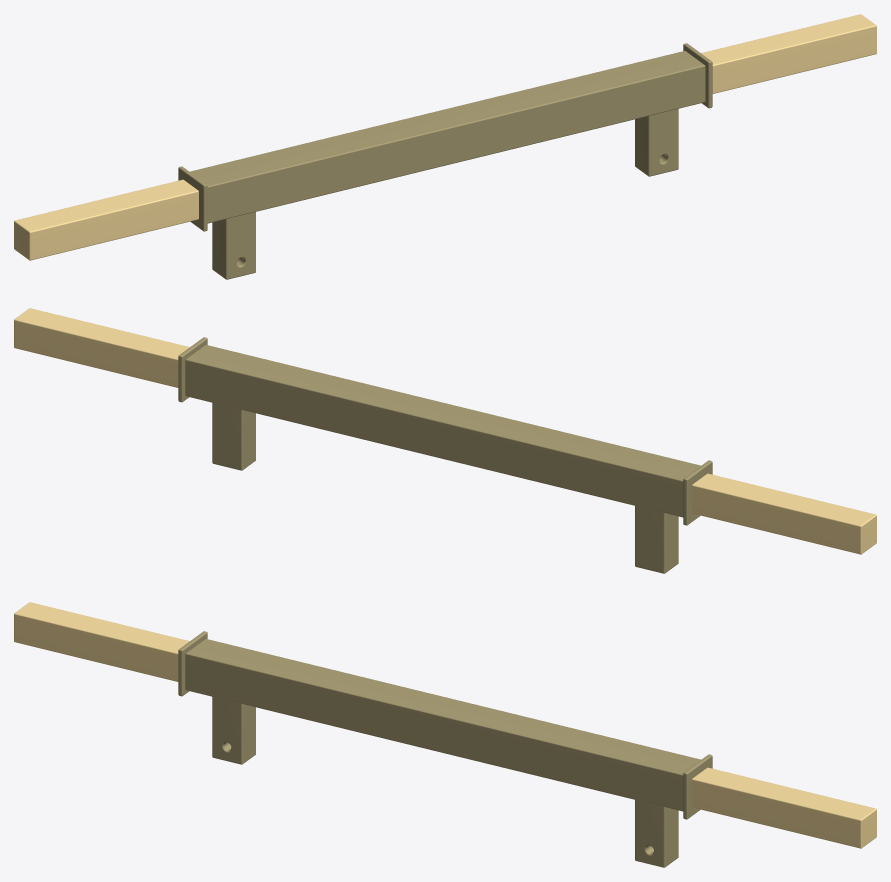
File: door-handles-1717.glb
The picture shows the model from 3 angles, top to bottom: view 1: azimuth 30°, elevation 25°; view 2: azimuth 150°, elevation 25°; view 3: azimuth 330°, elevation 25°; orthographic projection.
Visible parts, largest first — view 1: Tube, End -1, End 1, Post 1, Post -1, Flange -1, Flange 1; view 2: Tube, End -1, End 1, Post 1, Post -1, Flange -1, Flange 1; view 3: Tube, End 1, End -1, Post -1, Post 1, Flange 1, Flange -1.
Boxes of the visible parts, left/top/right/bottom form: Tube: left=190, top=51, right=705, bottom=223; End -1: left=14, top=179, right=198, bottom=260; End 1: left=701, top=14, right=876, bottom=93; Post 1: left=635, top=108, right=678, bottom=176; Post -1: left=212, top=212, right=255, bottom=279; Flange -1: left=178, top=166, right=207, bottom=231; Flange 1: left=683, top=43, right=712, bottom=108; Tube: left=185, top=345, right=700, bottom=517; End -1: left=692, top=473, right=876, bottom=554; End 1: left=14, top=308, right=189, bottom=387; Post 1: left=212, top=402, right=255, bottom=470; Post -1: left=635, top=506, right=678, bottom=573; Flange -1: left=683, top=460, right=712, bottom=525; Flange 1: left=178, top=337, right=207, bottom=402; Tube: left=185, top=639, right=700, bottom=811; End 1: left=692, top=767, right=876, bottom=848; End -1: left=14, top=602, right=189, bottom=681; Post -1: left=212, top=696, right=255, bottom=764; Post 1: left=635, top=800, right=678, bottom=867; Flange 1: left=683, top=754, right=712, bottom=819; Flange -1: left=178, top=631, right=207, bottom=696.
Size of the model in its own units: 0.305 by 0.0364 by 0.016.
